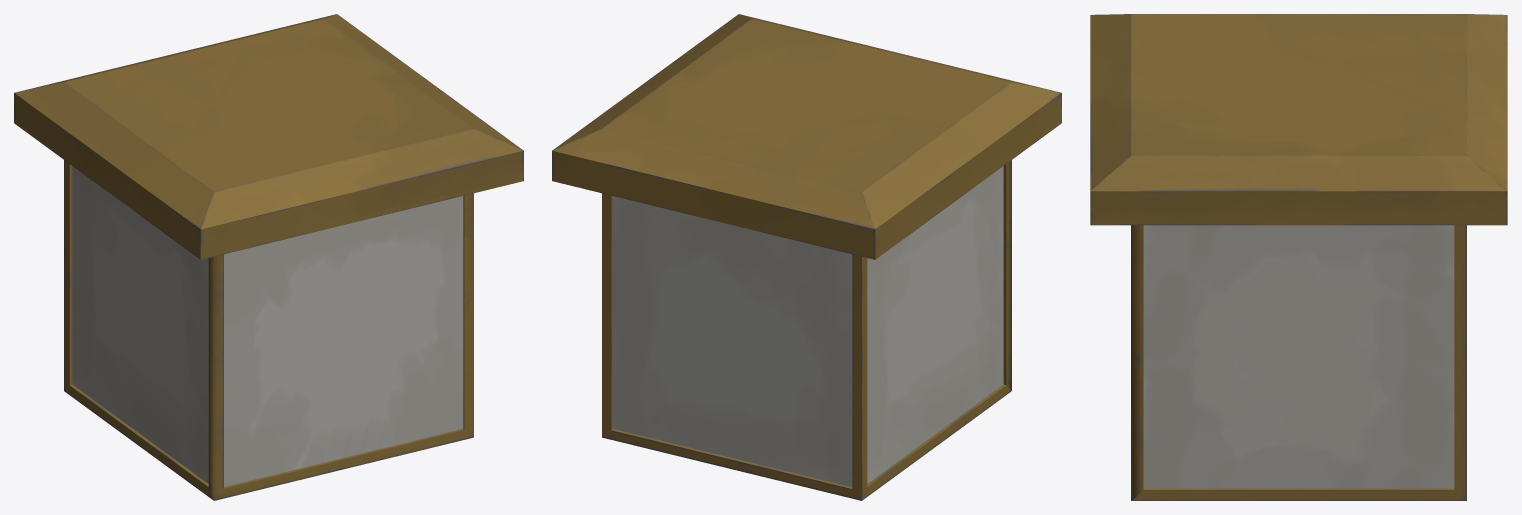
File: Popcorn_Maker.fbx
3 views of the same model, side by side, from view 1: azimuth 30°, elevation 25°; view 2: azimuth 150°, elevation 25°; view 3: azimuth 270°, elevation 25° (orthographic). The views are drawn at different scales.
Visible parts, largest first — view 1: Popcorn_Maker; view 2: Popcorn_Maker; view 3: Popcorn_Maker.
Boxes of the visible parts, x1=… form: Popcorn_Maker: x1=14, y1=14, x2=523, y2=500; Popcorn_Maker: x1=552, y1=14, x2=1061, y2=500; Popcorn_Maker: x1=1090, y1=14, x2=1507, y2=500.
Bounding box in the file's own units: 135 × 123 × 135.
